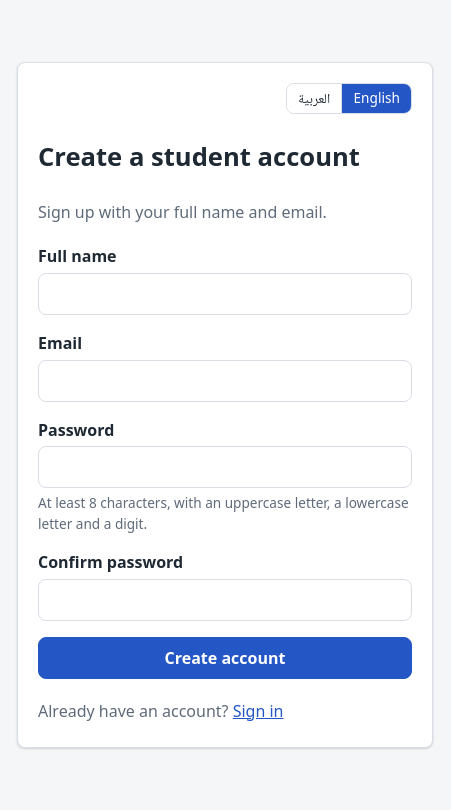
Test: RegisterPage (English) › shows the rate limit (429), network errors and server errors as general messages without server details
Type "Sara Ahmed" into the field labelled "Full name" at (225, 294), box [38, 273, 412, 315]
Type "sara@example.edu" into the field labelled "Email" at (225, 381), box [38, 360, 412, 402]
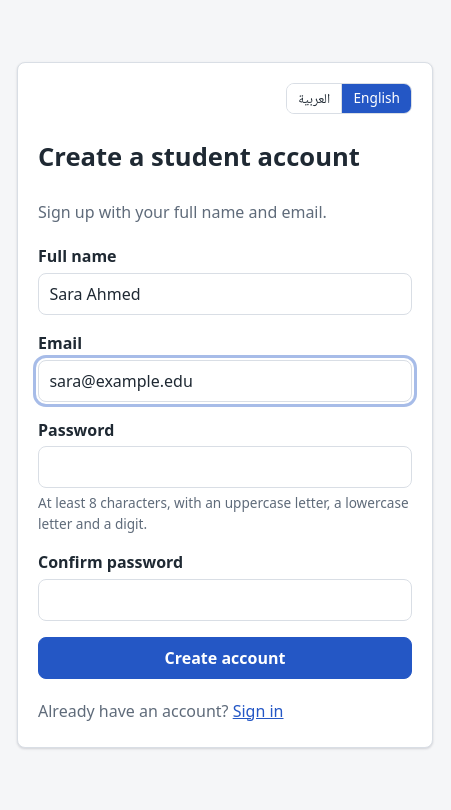
Type "Example1pass" into the password field labelled "Password" at (225, 467), box [38, 446, 412, 488]
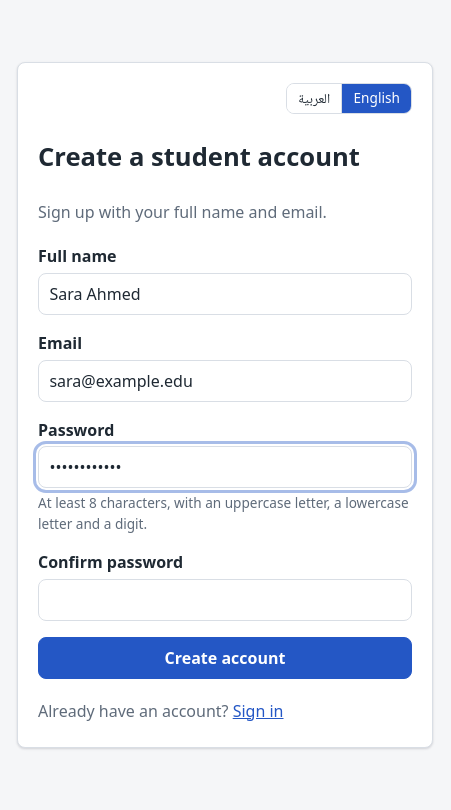
Type "Example1pass" into the password field labelled "Confirm password" at (225, 600), box [38, 579, 412, 621]
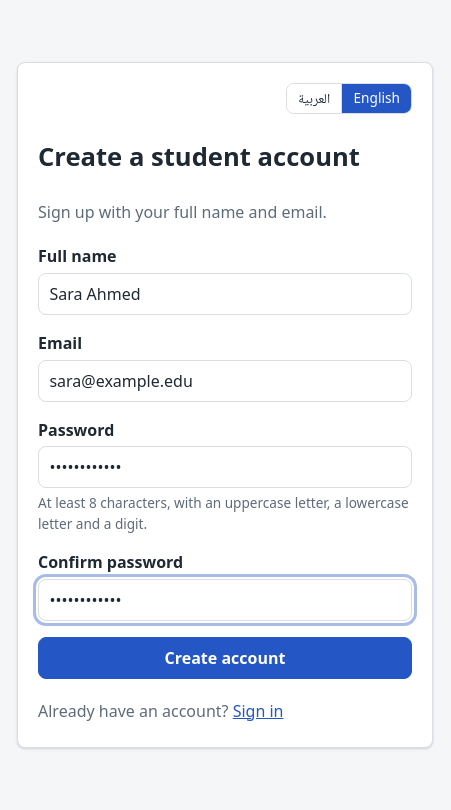
Click the button "Create account" at (225, 658), box [38, 637, 412, 679]
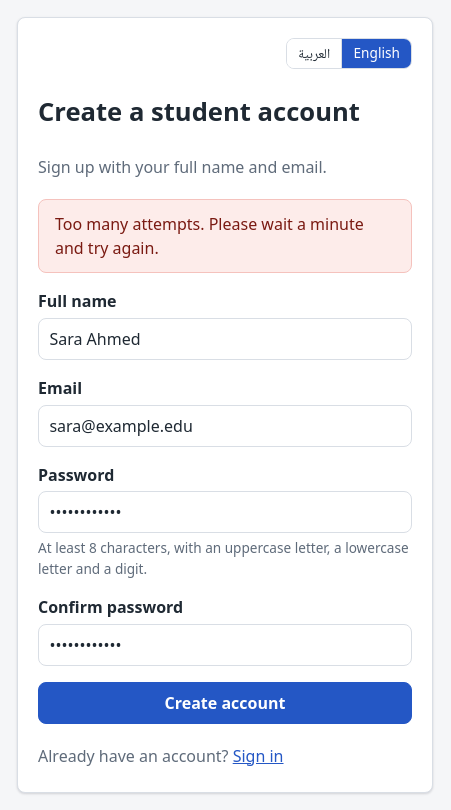
Expected: the message reads "Too many attempts. Please wait a minute and try again.", [55, 213, 364, 259]
Click the button "Create account" at (225, 703), box [38, 682, 412, 724]
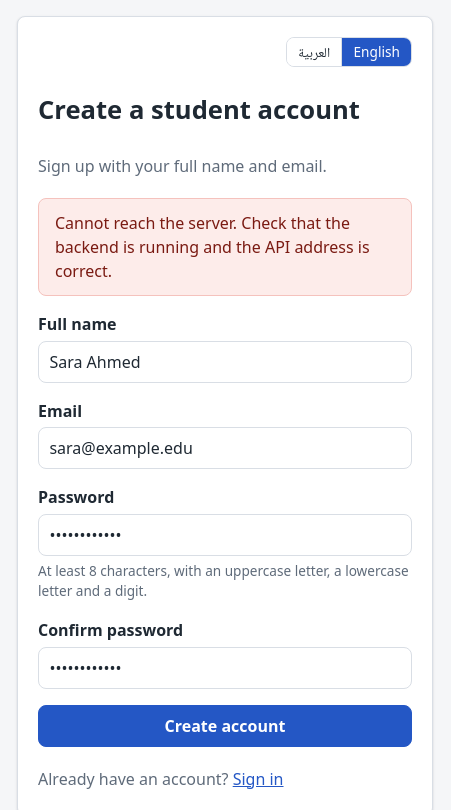
Expected: the message shows "Cannot reach the server. Check that the backend is running and the API address is correct.", [55, 212, 370, 282]
Click the button "Create account" at (225, 726), box [38, 704, 412, 746]
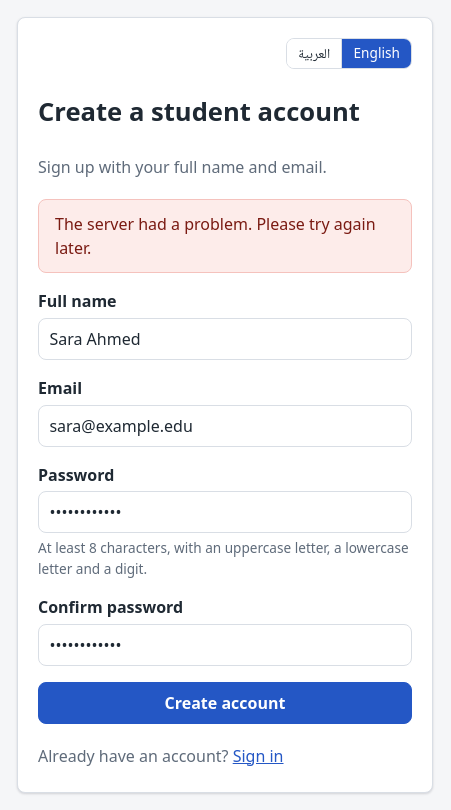
Expected: the message reads "The server had a problem. Please try again later.", [55, 213, 376, 259]
